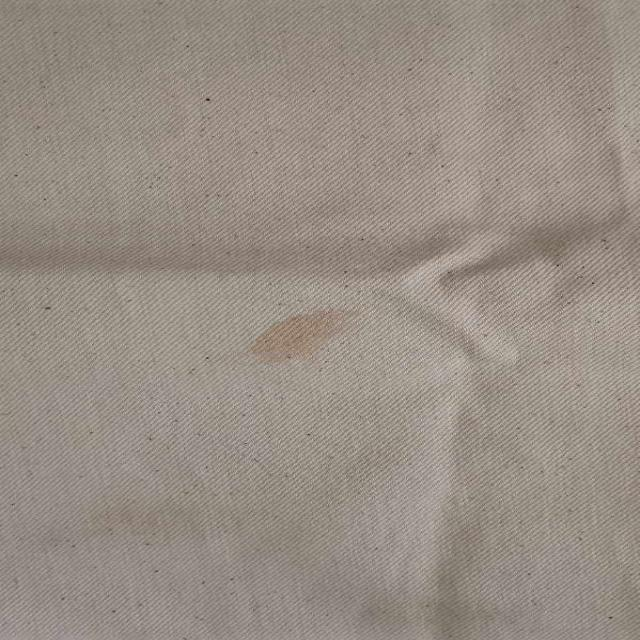taaaches: (246, 295, 374, 370)
